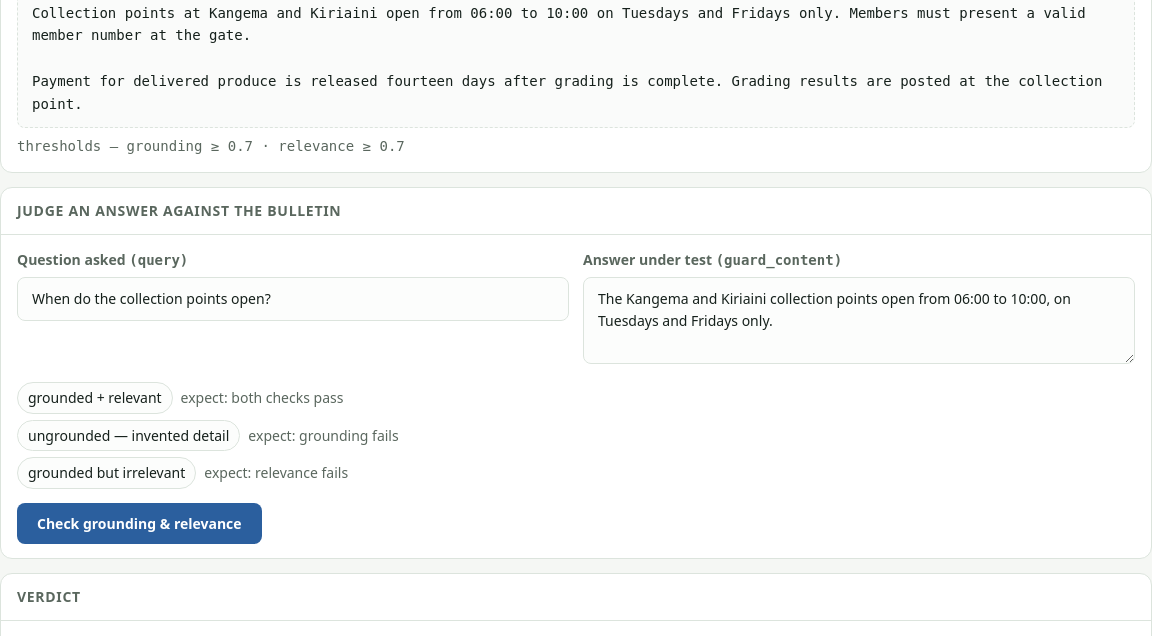
it: the grounding tool › reports both scores, both thresholds and a pass indicator per filter
Click the button "Check grounding & relevance": (139, 524) [17, 503, 262, 544]
(page scrolled)
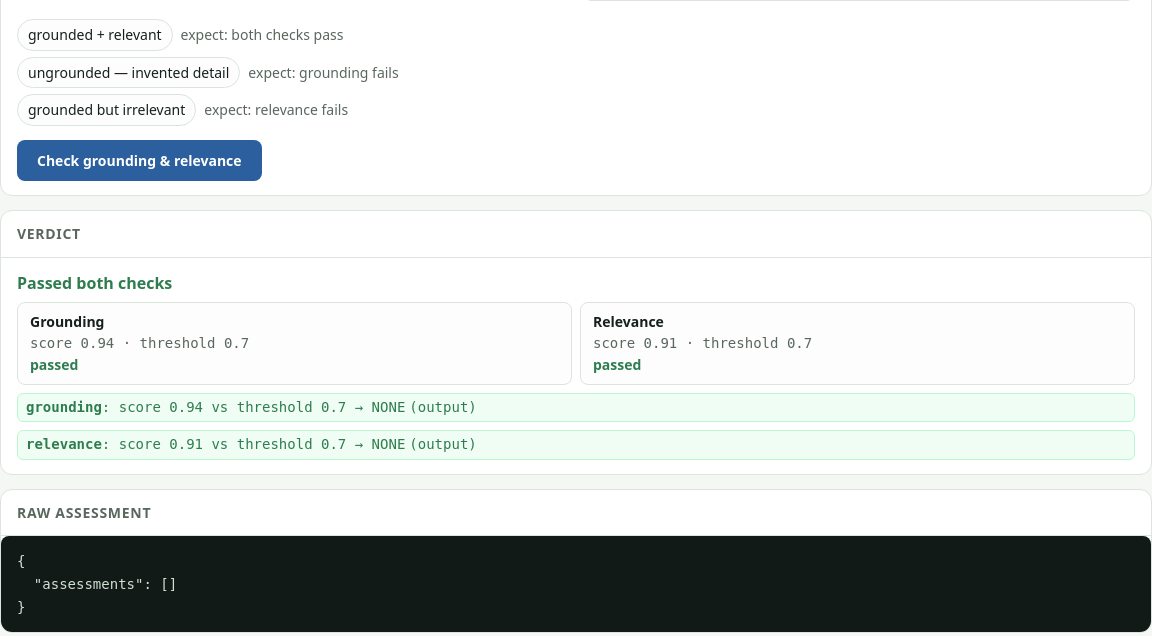
Check: the text "Passed both checks" is shown, box [17, 272, 172, 294]
Check: the text "score 0.94 · threshold 0.7" is shown, box [30, 335, 249, 351]
Check: the text "score 0.91 · threshold 0.7" is shown, box [593, 335, 812, 351]
